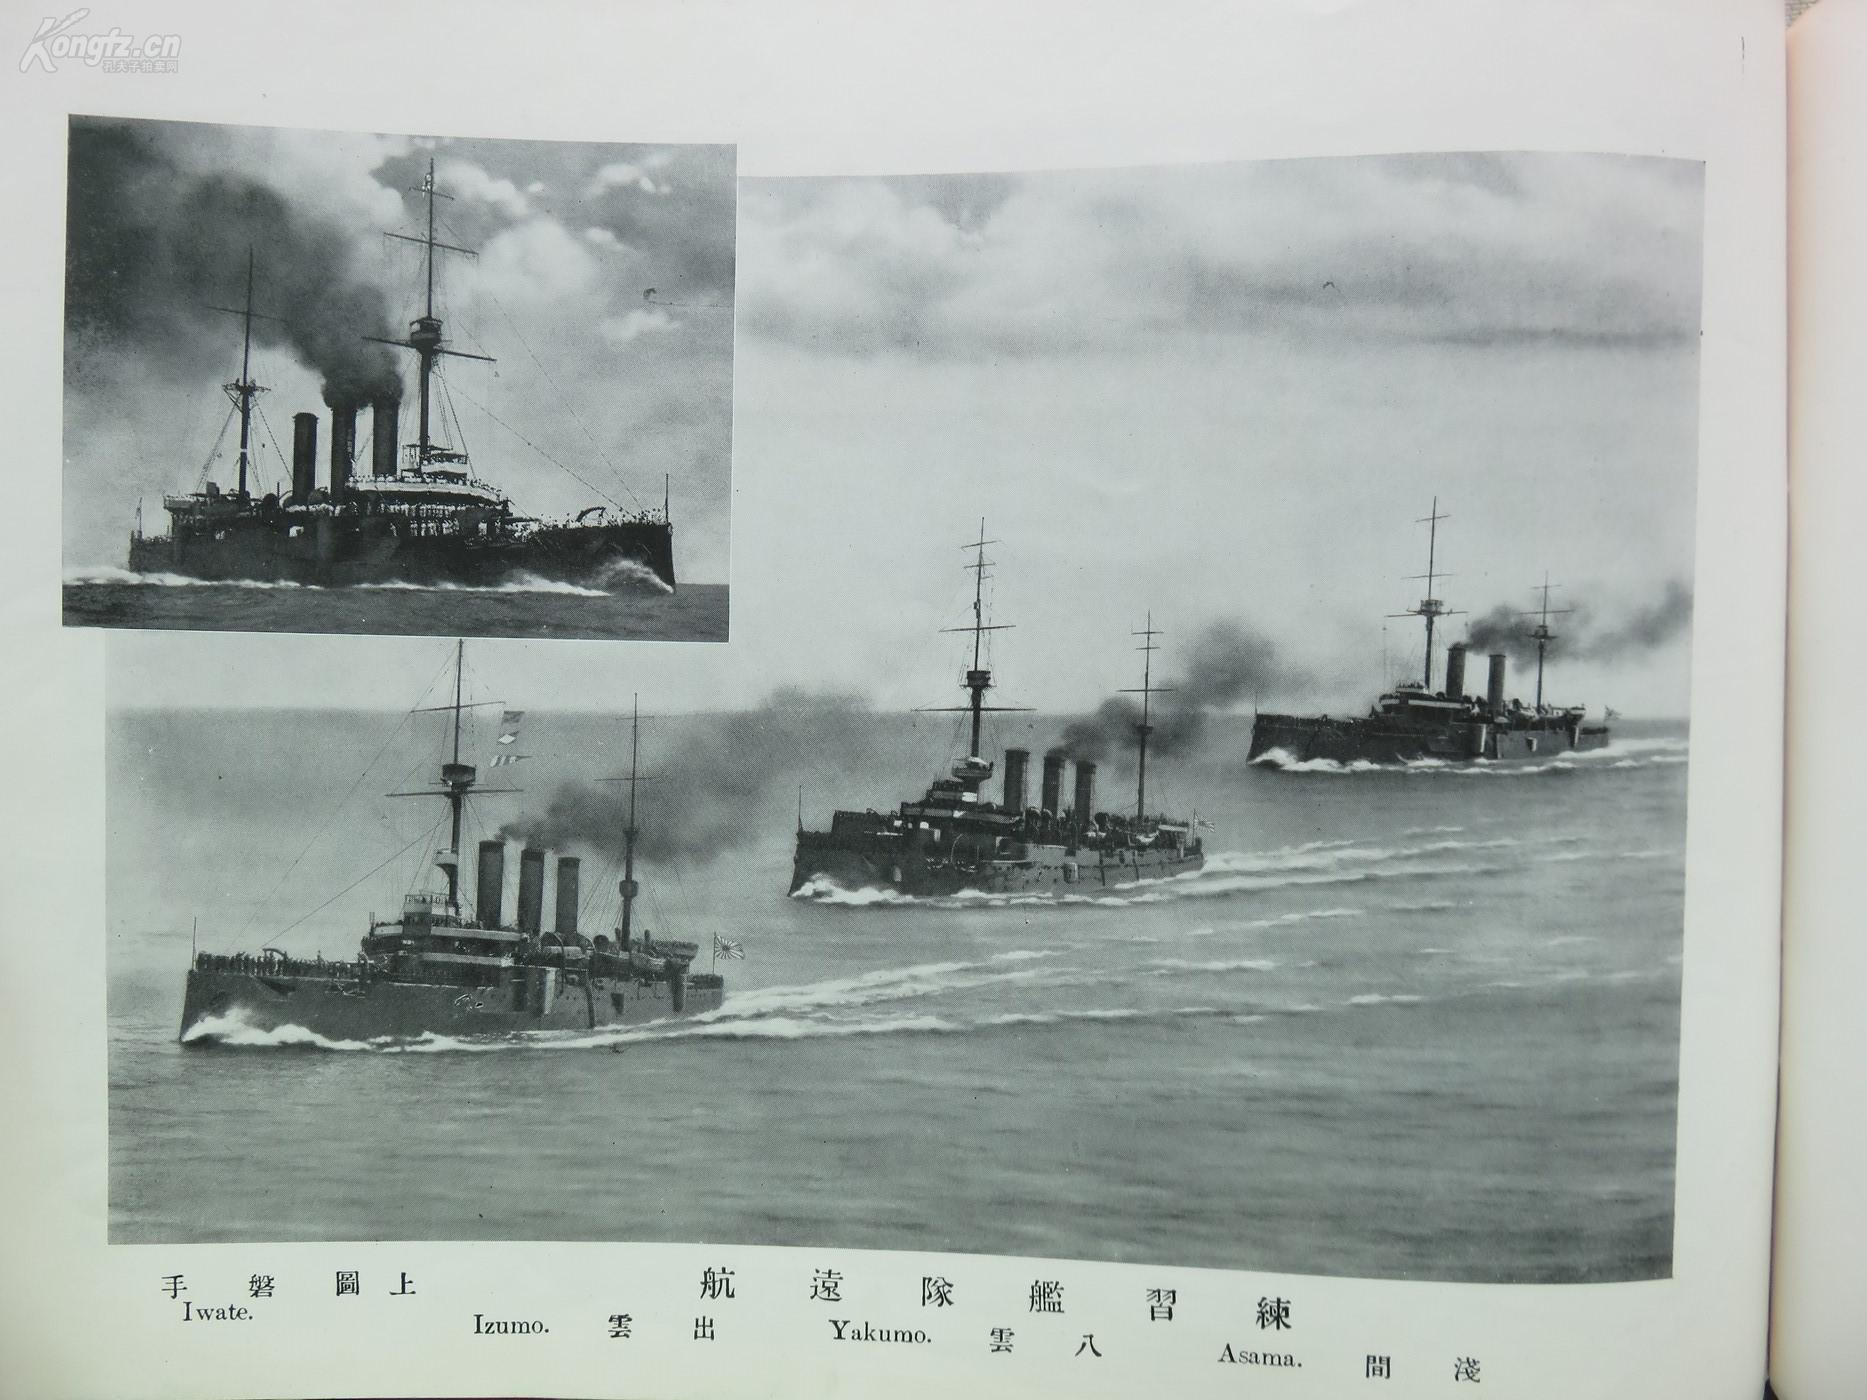warship: (184, 710, 723, 1074), (118, 279, 706, 596), (754, 646, 1192, 931), (1203, 576, 1636, 768)
